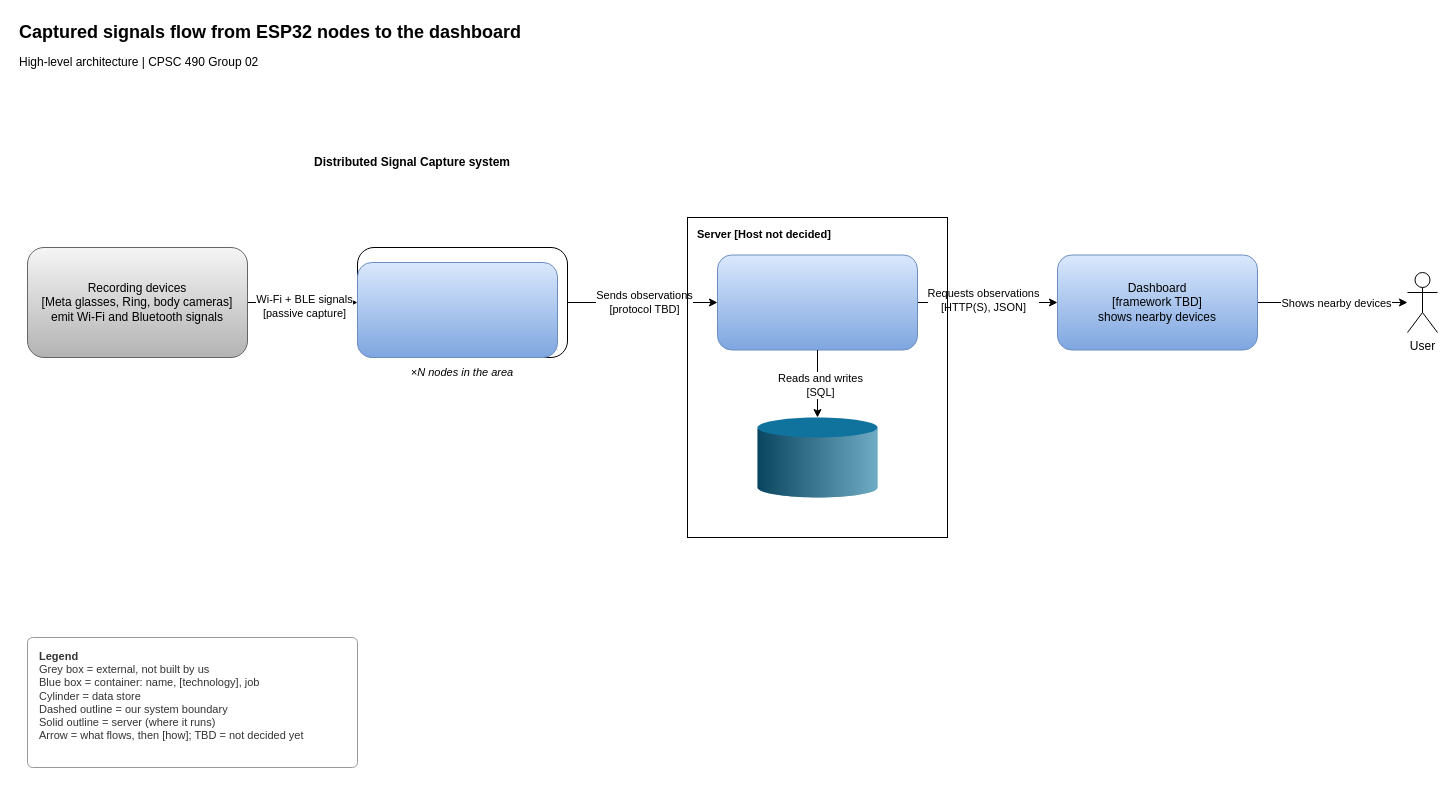
This 1455x785 diagram has some shape labels left out. The centre of each missing label's shape, as x and y in pixels:
"Backend API [FastAPI] ingests, stores and serves observations" belongs at point (817, 302).
"Database [PostgreSQL] Observations, devices" belongs at point (817, 457).
"ESP32 capture node [C/C++ firmware] scans Wi-Fi + Bluetooth" belongs at point (457, 310).
